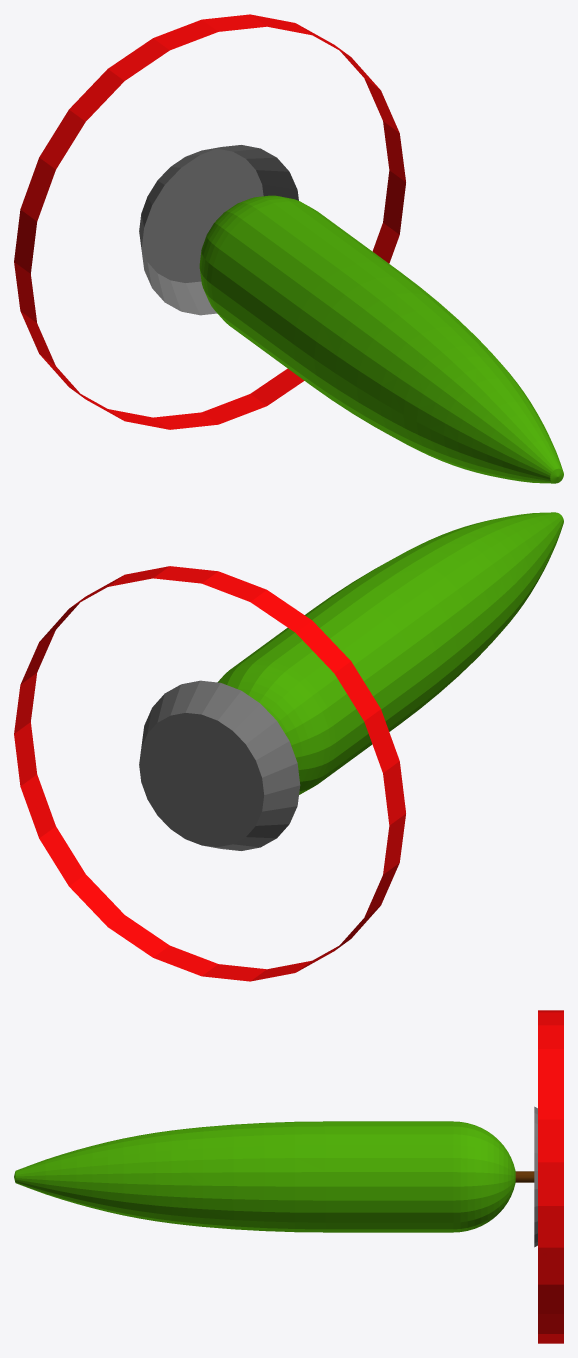
File: LPK14m.obj
3 views of the same model, one above another, from view 1: azimuth 30°, elevation 25°; view 2: azimuth 150°, elevation 25°; view 3: azimuth 270°, elevation 25° (orthographic). The views are drawn at different scales.
Bounding box in the file's own units: 9 × 9 × 14.8.
